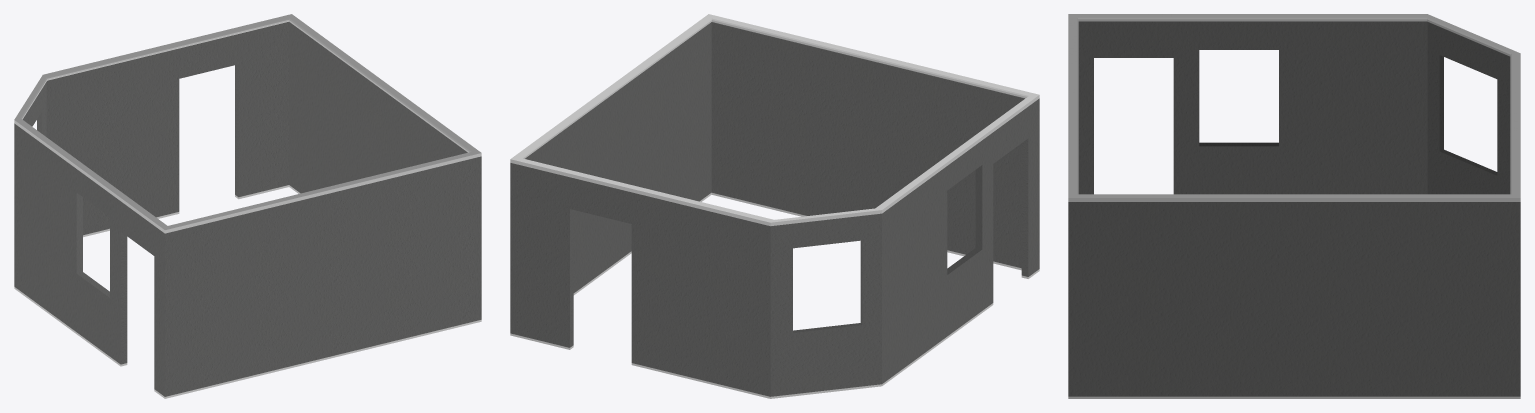
The model's file is StandardWallSize_e49530f2.obj.
3 renders of one model, left to right at view 1: azimuth 30°, elevation 25°; view 2: azimuth 150°, elevation 25°; view 3: azimuth 270°, elevation 25°, orthographic. The views are drawn at different scales.
Visible parts, largest first — view 1: StandardWallSize_e49530f2; view 2: StandardWallSize_e49530f2; view 3: StandardWallSize_e49530f2.
Boxes of the visible parts, x1,y1,x2,y2 form: StandardWallSize_e49530f2: (14,14,481,398); StandardWallSize_e49530f2: (510,14,1039,398); StandardWallSize_e49530f2: (1068,14,1520,398).
Size of the model in its own units: 4.91 by 2.5 by 5.1.
